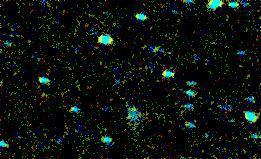star: (120, 93, 150, 123)
